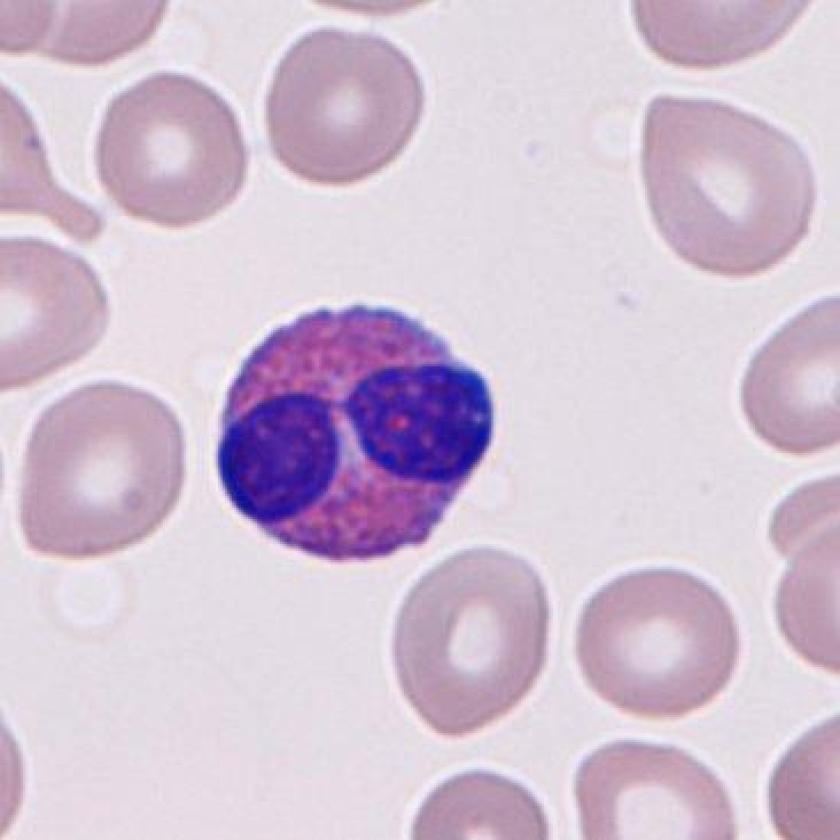eosinophil: (203, 290, 508, 582)
